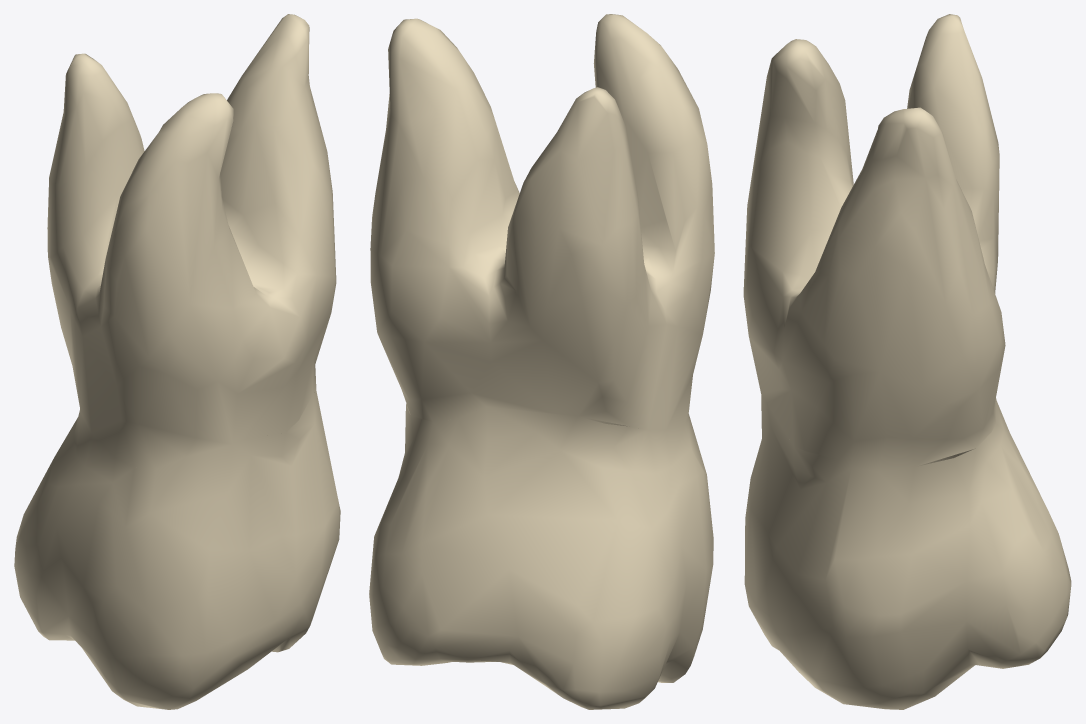
Rendered from esqueleto-upper-first-molar-tooth-r.glb.
3 renders of one model, left to right at view 1: azimuth 30°, elevation 25°; view 2: azimuth 150°, elevation 25°; view 3: azimuth 270°, elevation 25°, orthographic. The views are drawn at different scales.
Parts seen in each view (by area): view 1: Upper first molar tooth.r; view 2: Upper first molar tooth.r; view 3: Upper first molar tooth.r.
Part boxes in pixels (bbox=[...]): Upper first molar tooth.r: bbox=[14, 14, 340, 709]; Upper first molar tooth.r: bbox=[369, 14, 714, 709]; Upper first molar tooth.r: bbox=[743, 14, 1071, 709].
Size of the model in its own units: 0.0113 by 0.024 by 0.0113.
